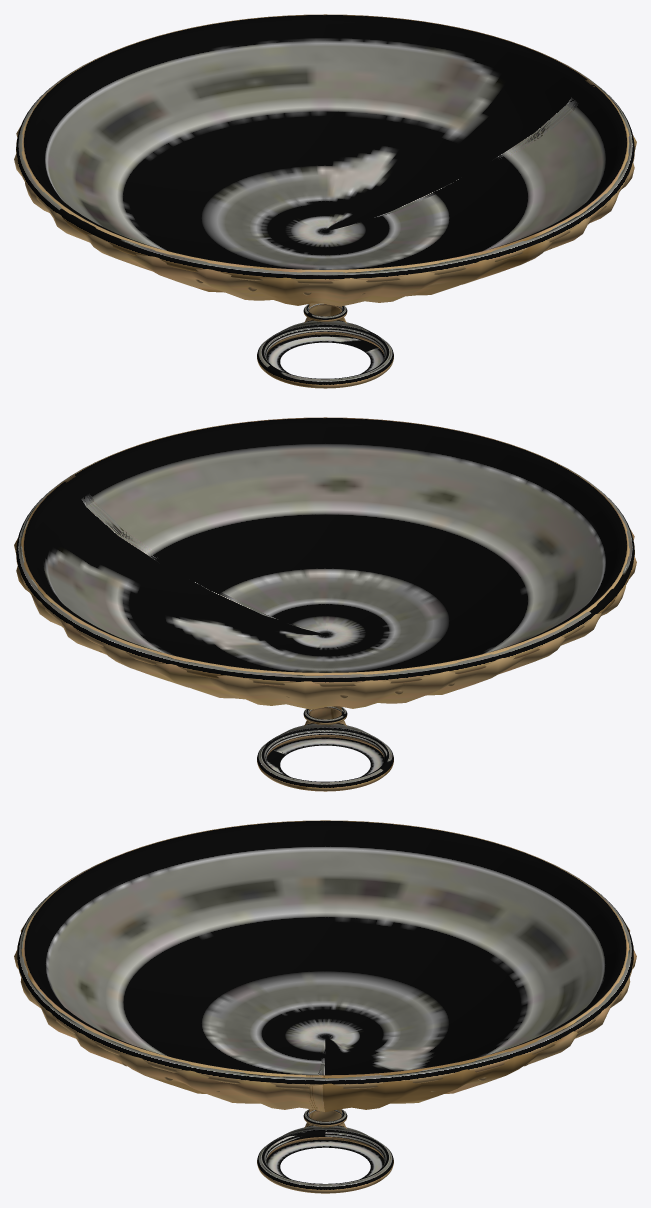
The model's file is ceremonial-bowl.glb.
3 views of the same model, one above another, from view 1: azimuth 30°, elevation 25°; view 2: azimuth 150°, elevation 25°; view 3: azimuth 270°, elevation 25° (orthographic).
Parts seen in each view (by area): view 1: MIDIS_bowl_body, MIDIS_rolled_gold_lip, MIDIS_pedestal_lower_roll, MIDIS_hourglass_stem; view 2: MIDIS_bowl_body, MIDIS_rolled_gold_lip, MIDIS_pedestal_lower_roll, MIDIS_hourglass_stem; view 3: MIDIS_bowl_body, MIDIS_rolled_gold_lip, MIDIS_pedestal_lower_roll, MIDIS_hourglass_stem.
Part boxes in pixels (x1,y1,x2,y2): MIDIS_bowl_body: (14,14,636,306); MIDIS_rolled_gold_lip: (16,53,634,284); MIDIS_pedestal_lower_roll: (257,325,393,388); MIDIS_hourglass_stem: (264,303,386,373); MIDIS_bowl_body: (14,417,636,709); MIDIS_rolled_gold_lip: (16,456,634,687); MIDIS_pedestal_lower_roll: (257,728,393,791); MIDIS_hourglass_stem: (264,706,386,776); MIDIS_bowl_body: (14,820,636,1112); MIDIS_rolled_gold_lip: (17,860,633,1089); MIDIS_pedestal_lower_roll: (257,1130,393,1193); MIDIS_hourglass_stem: (264,1109,386,1179).
Bounding box in the file's own units: 1.79 × 0.695 × 1.79.
1 material, 1 textured.
